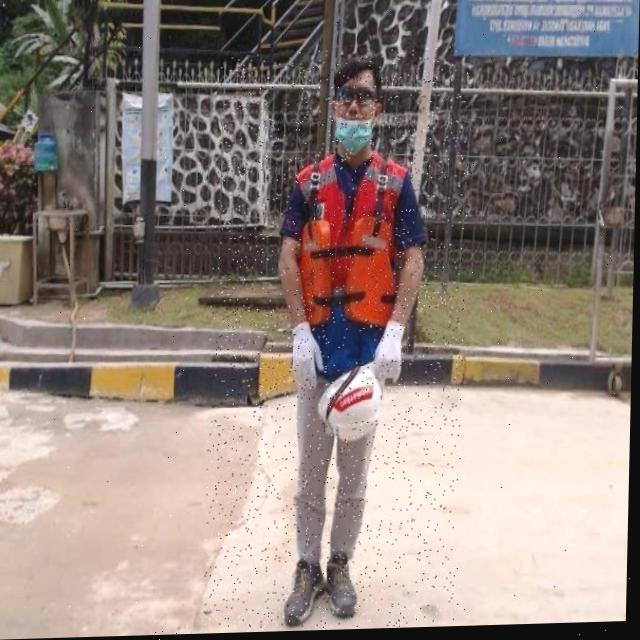Gloves: (292, 323, 328, 390), (374, 321, 407, 386)
Safety-Boot: (287, 559, 329, 628), (329, 553, 362, 619)
Safety-Vest: (294, 153, 411, 383)
